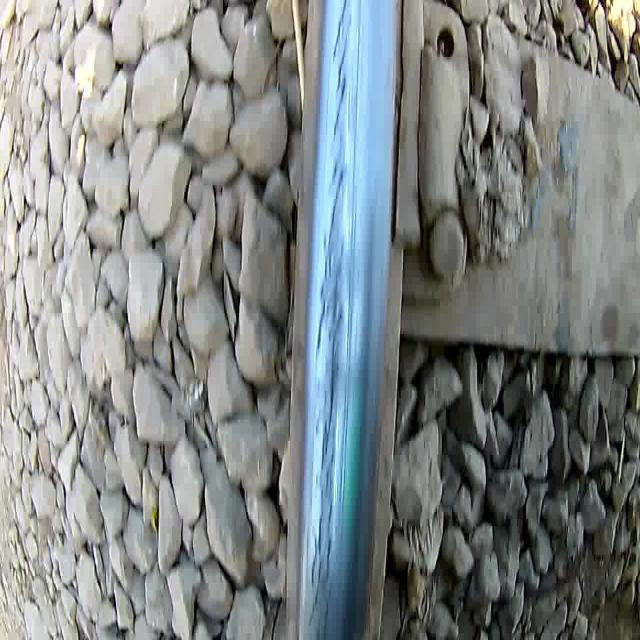Cracks: (306, 0, 352, 639)
Grooves: (334, 0, 365, 556)
